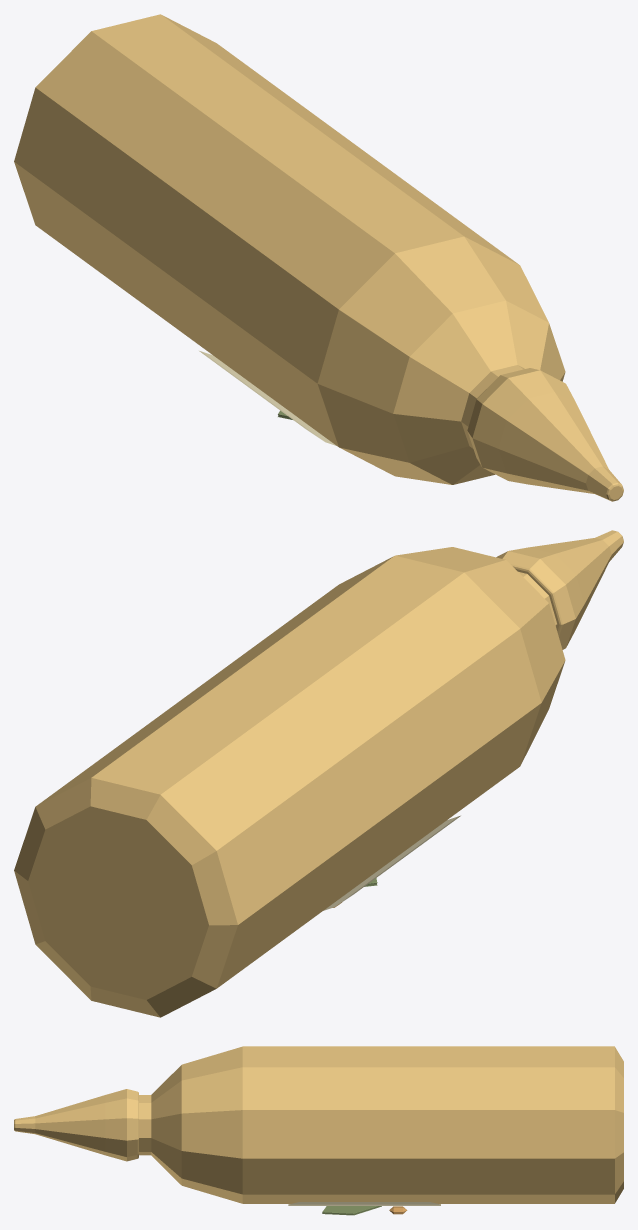
File: mustard.glb
The picture shows the model from 3 angles, top to bottom: view 1: azimuth 30°, elevation 25°; view 2: azimuth 150°, elevation 25°; view 3: azimuth 270°, elevation 25°; orthographic projection. The views are drawn at different scales.
Parts seen in each view (by area): view 1: mustard; view 2: mustard; view 3: mustard.
Boxes of the visible parts, x1=… form: mustard: x1=14, y1=14, x2=623, y2=501; mustard: x1=14, y1=530, x2=623, y2=1017; mustard: x1=14, y1=1046, x2=623, y2=1215.
Size of the model in its own units: 0.052 by 0.0536 by 0.2.
